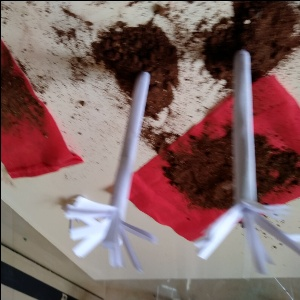weed: (201, 46, 300, 283), (54, 69, 159, 292)
